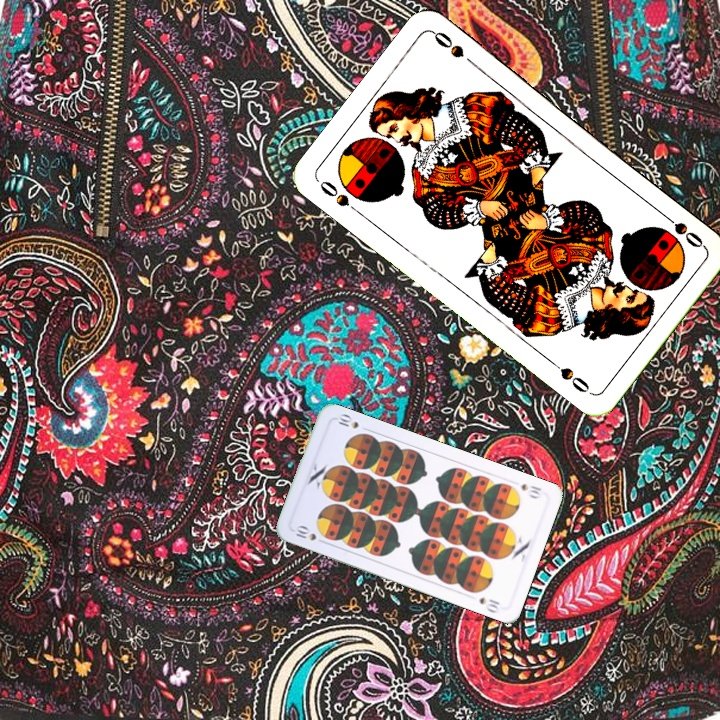S10: (289, 522, 319, 543), (517, 479, 544, 501)
SO: (656, 208, 707, 251), (315, 176, 364, 218)
